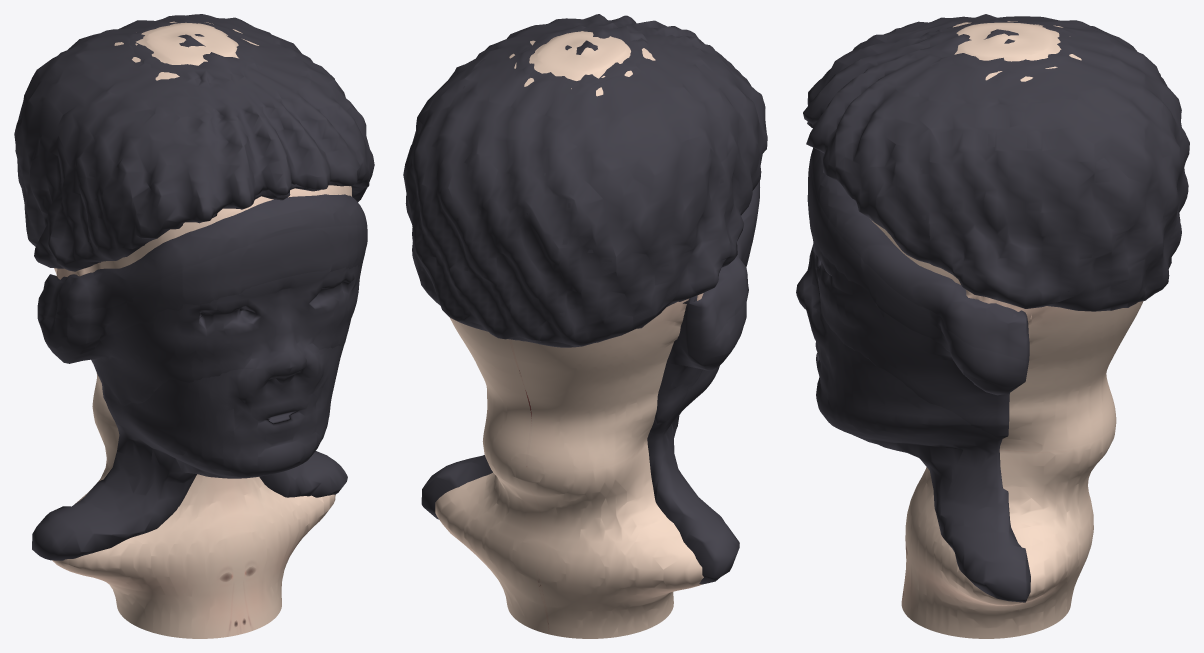
The picture shows the model from 3 angles, left to right: view 1: azimuth 30°, elevation 25°; view 2: azimuth 150°, elevation 25°; view 3: azimuth 270°, elevation 25°; orthographic projection.
Parts seen in each view (by area): view 1: hair_wolf, hair_long, Head, hair_lob, hair_bob, hair_fringe, hair_buzz; view 2: hair_wolf, Head, hair_long, hair_bob, hair_lob, hair_buzz; view 3: hair_wolf, Head, hair_long, hair_lob, hair_bob, hair_buzz.
Boxes of the visible parts, x1=… form: hair_wolf: x1=14, y1=14, x2=374, y2=352; hair_long: x1=32, y1=25, x2=366, y2=560; Head: x1=52, y1=21, x2=351, y2=638; hair_lob: x1=51, y1=268, x2=360, y2=412; hair_bob: x1=37, y1=20, x2=367, y2=353; hair_fringe: x1=149, y1=29, x2=344, y2=218; hair_buzz: x1=129, y1=21, x2=242, y2=73; hair_wolf: x1=403, y1=14, x2=767, y2=367; Head: x1=435, y1=31, x2=703, y2=638; hair_long: x1=421, y1=66, x2=756, y2=584; hair_bob: x1=408, y1=36, x2=759, y2=365; hair_lob: x1=527, y1=114, x2=749, y2=424; hair_buzz: x1=518, y1=38, x2=643, y2=88; hair_wolf: x1=803, y1=14, x2=1189, y2=387; Head: x1=870, y1=21, x2=1143, y2=638; hair_long: x1=796, y1=36, x2=1178, y2=602; hair_lob: x1=801, y1=202, x2=1120, y2=438; hair_bob: x1=809, y1=36, x2=1178, y2=389; hair_buzz: x1=959, y1=21, x2=1072, y2=71.
Size of the model in its own units: 0.1928 by 0.3424 by 0.2133.
Materials: 5 (1 with a texture image).
